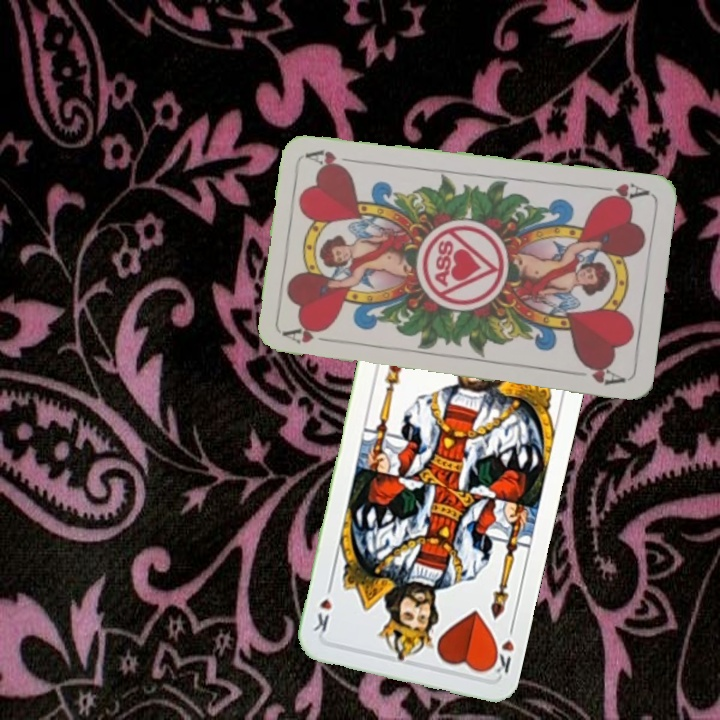HA: (592, 179, 651, 206), (281, 324, 340, 346)
HK: (485, 619, 517, 677)
